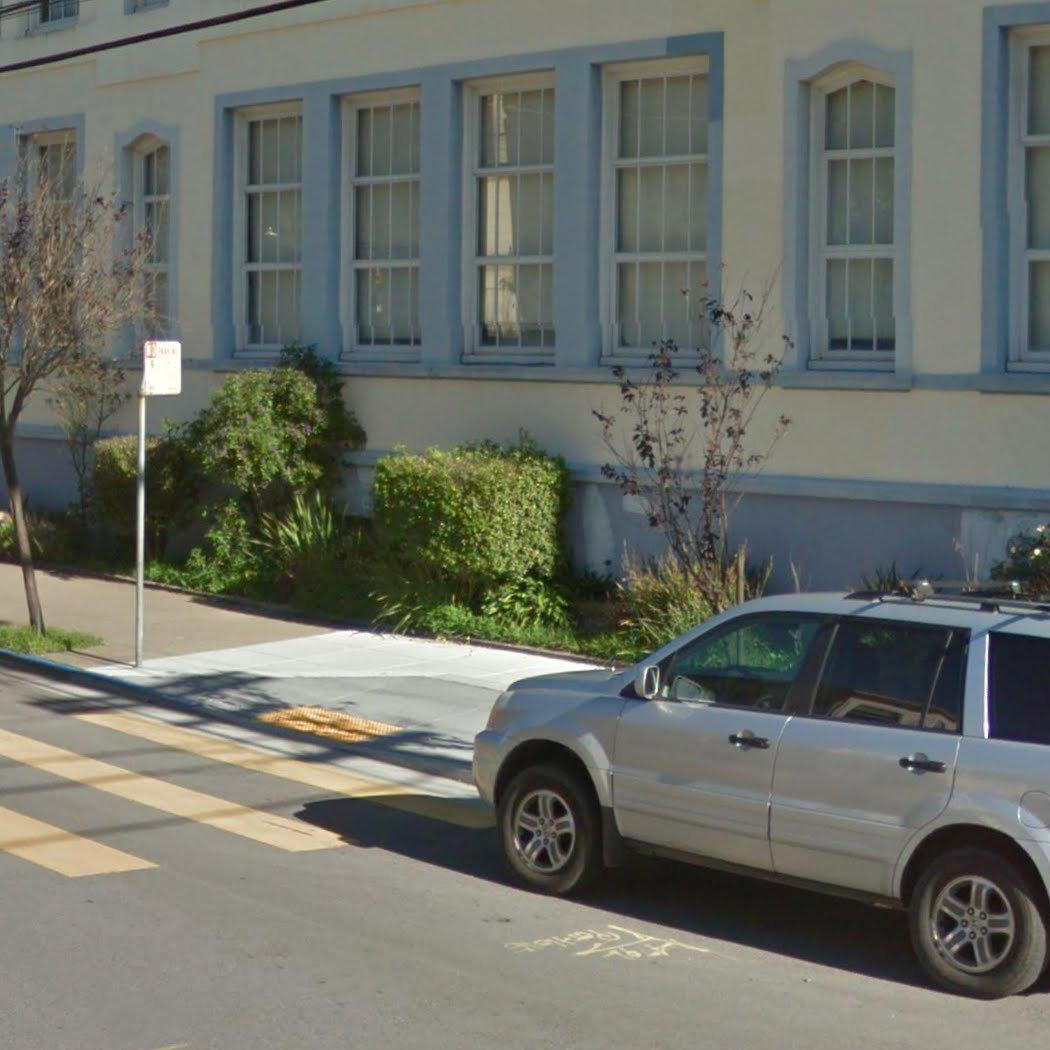No Parking: (142, 336, 185, 395)
